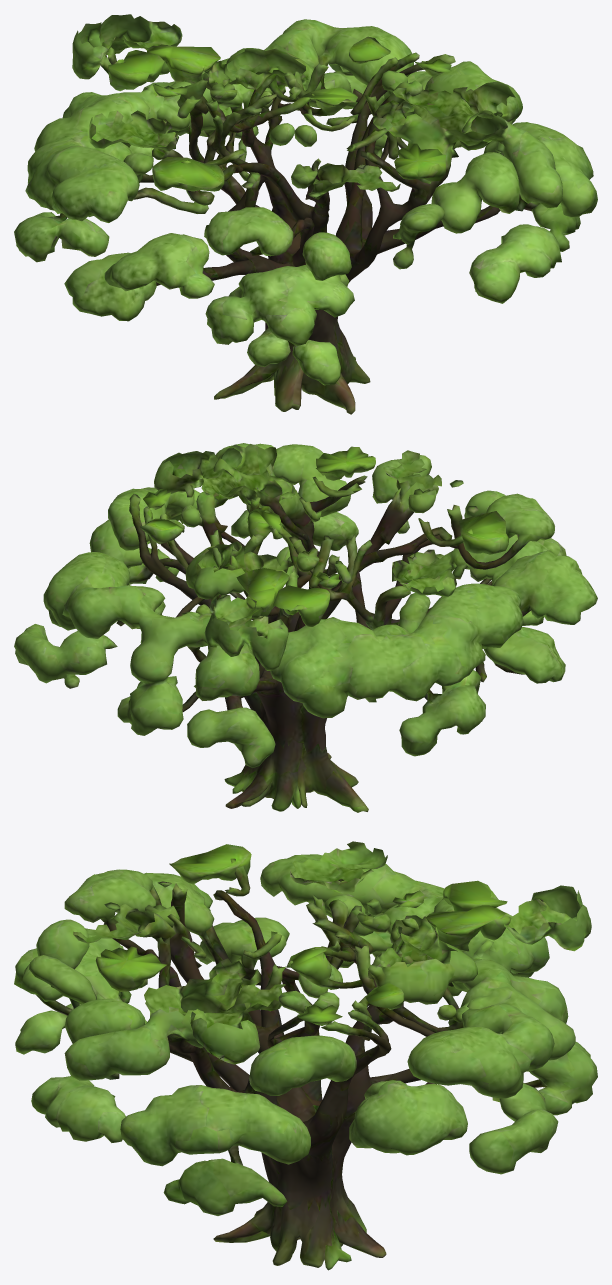
Rendered from oak.glb.
3 renders of one model, top to bottom at view 1: azimuth 30°, elevation 25°; view 2: azimuth 150°, elevation 25°; view 3: azimuth 270°, elevation 25°, orthographic. The views are drawn at different scales.
Size of the model in its own units: 1.9 by 1.06 by 1.85.
1 material, 1 textured.
